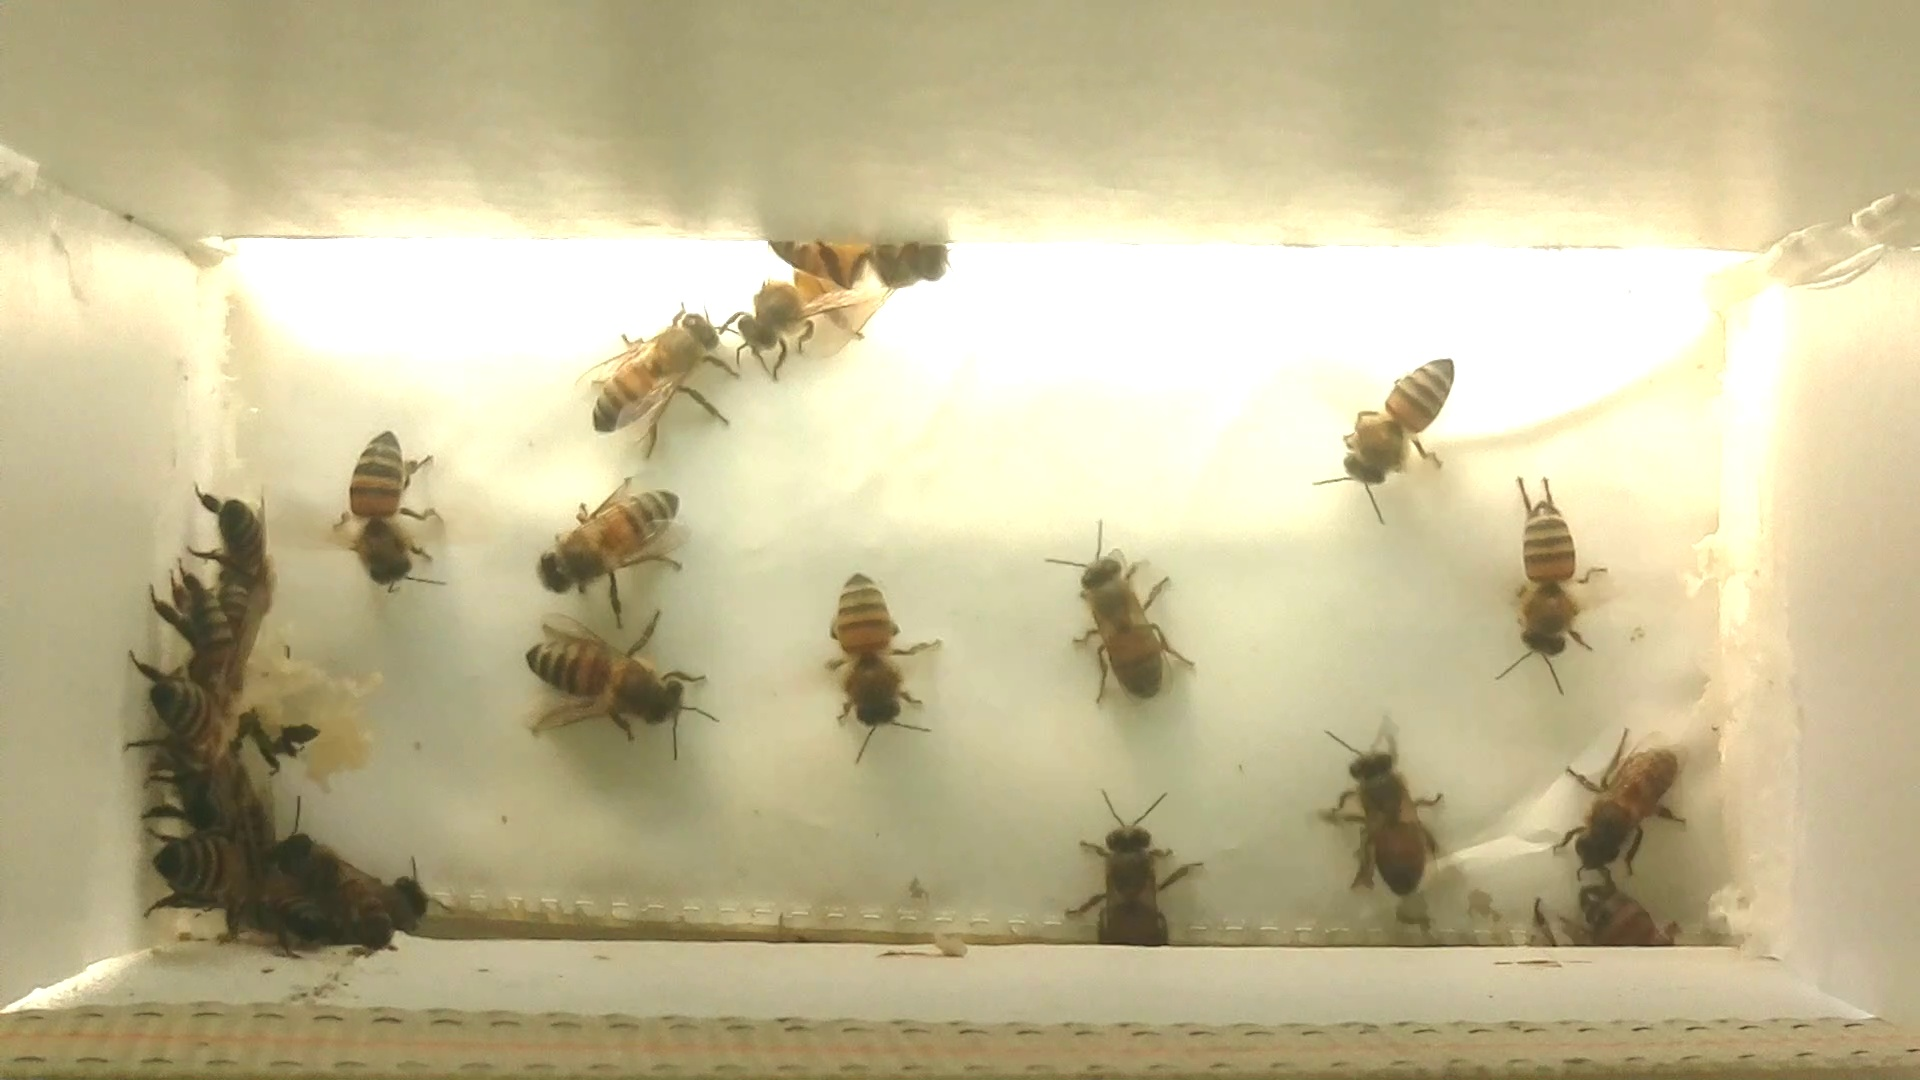bee: (1022, 504, 1212, 719), (501, 607, 737, 766), (1472, 462, 1615, 713), (509, 456, 713, 632), (798, 560, 969, 766), (299, 414, 468, 615), (1307, 709, 1462, 926), (1308, 335, 1466, 541), (556, 298, 748, 462), (723, 255, 928, 400), (1545, 709, 1706, 876), (1072, 779, 1212, 953), (762, 210, 959, 328), (274, 822, 409, 951), (103, 647, 241, 766), (127, 806, 262, 926), (156, 566, 269, 688), (1567, 865, 1698, 963), (181, 469, 280, 591)
